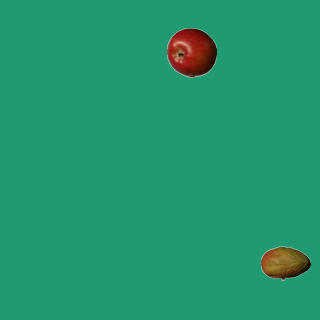Apple Braeburn: (166, 27, 216, 77)
Papaya: (260, 238, 310, 288)
